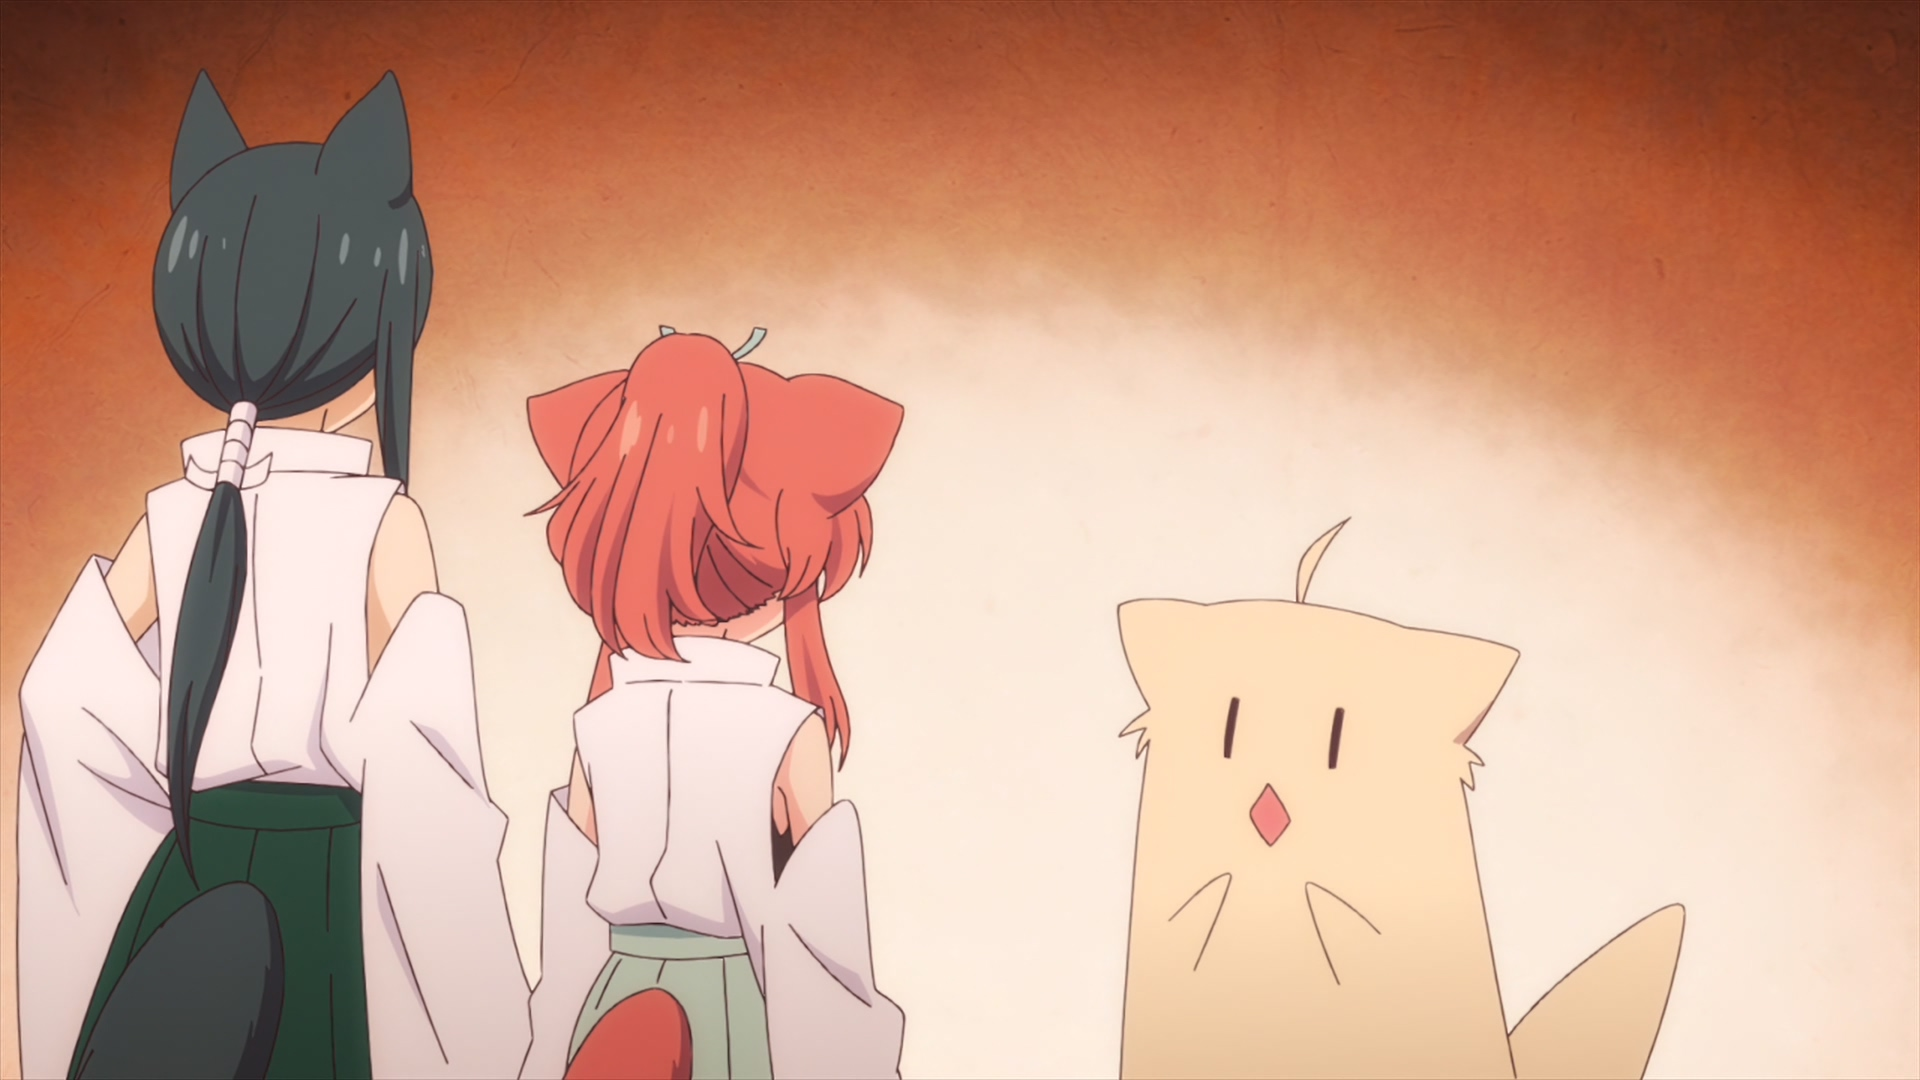其他: (17, 69, 534, 1080)
柚: (1118, 517, 1687, 1080)
椿: (516, 326, 905, 1080)
